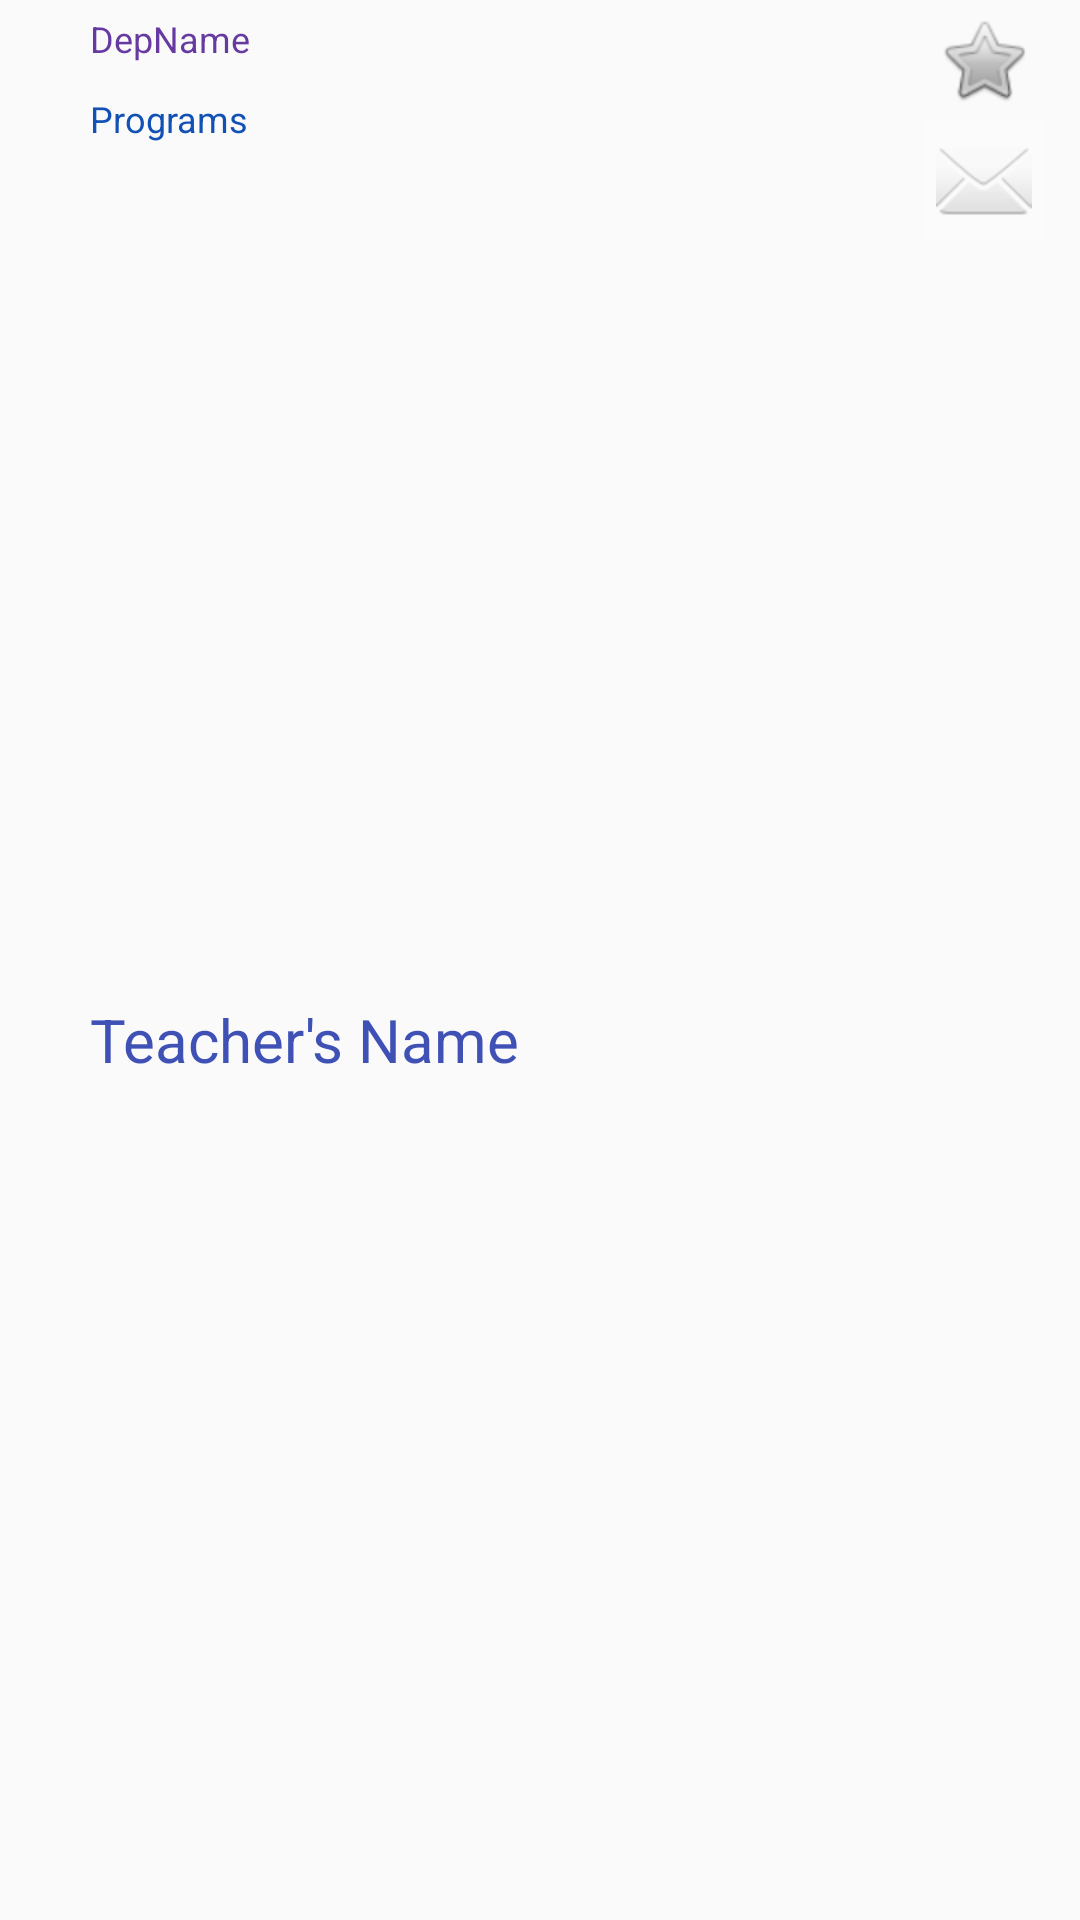

Named icons in this screenshot (1080 x 1920) and their bounding boxes, (x1, y1, x2, y2):
email: (936, 149, 1032, 215)
star off: (945, 22, 1025, 100)
